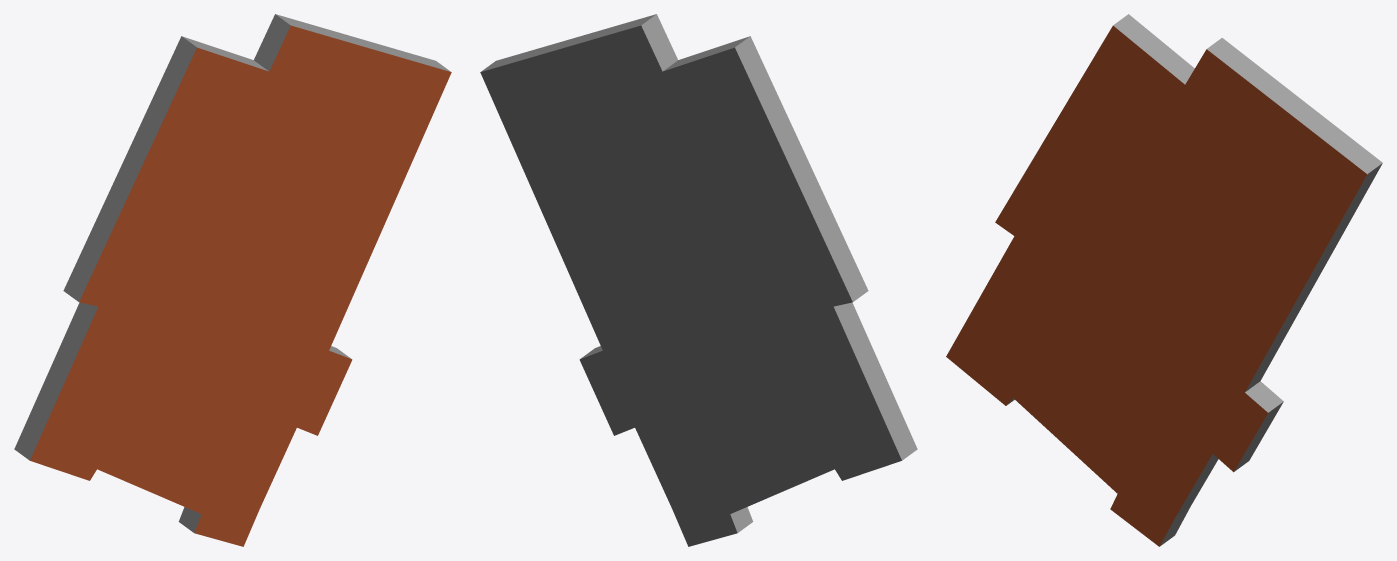
File: construction_0115_assumed_A_Grande_construcao_h6m.obj
The picture shows the model from 3 angles, left to right: view 1: azimuth 30°, elevation 25°; view 2: azimuth 150°, elevation 25°; view 3: azimuth 330°, elevation 25°; orthographic projection.
Parts seen in each view (by area): view 1: construction_0115_assumed_A_Grande_construcao; view 2: construction_0115_assumed_A_Grande_construcao; view 3: construction_0115_assumed_A_Grande_construcao.
Part boxes in pixels (<box>): construction_0115_assumed_A_Grande_construcao: <box>14,14,451,546</box>; construction_0115_assumed_A_Grande_construcao: <box>480,14,917,546</box>; construction_0115_assumed_A_Grande_construcao: <box>946,14,1382,546</box>.
Bounding box in the file's own units: 93.32 × 108 × 6.
